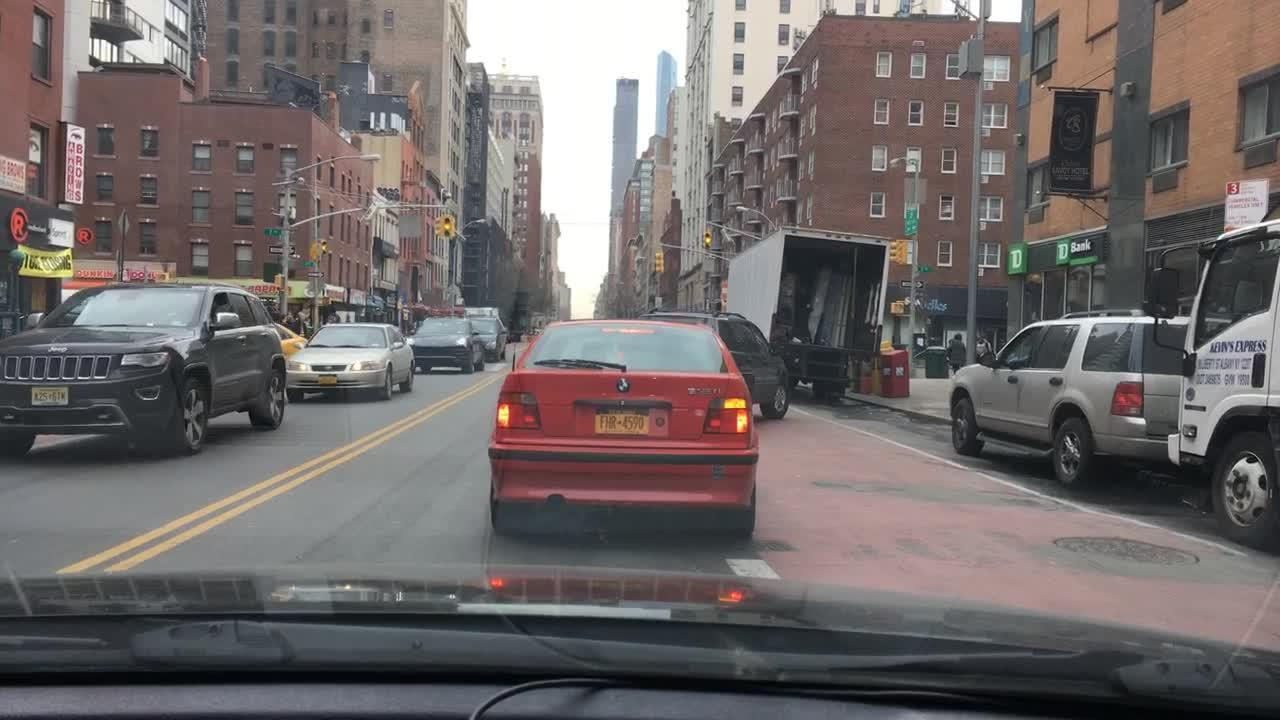bmw: (614, 376, 634, 397)
jeep: (44, 342, 73, 355)
